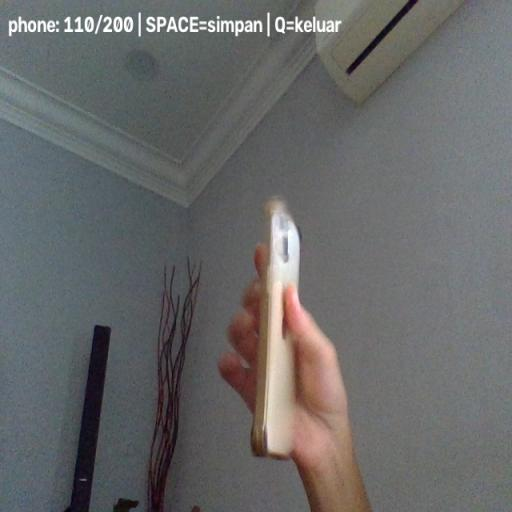Phone: (250, 198, 301, 460)
